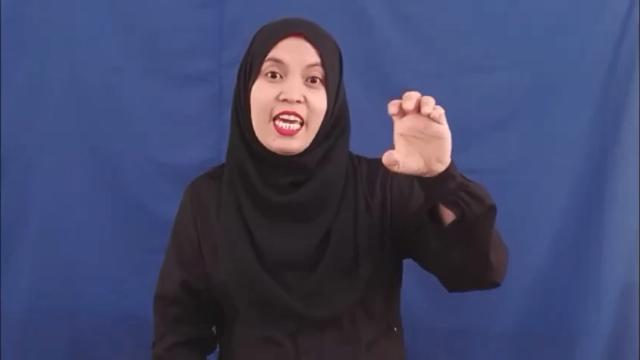E: (378, 88, 450, 178)
